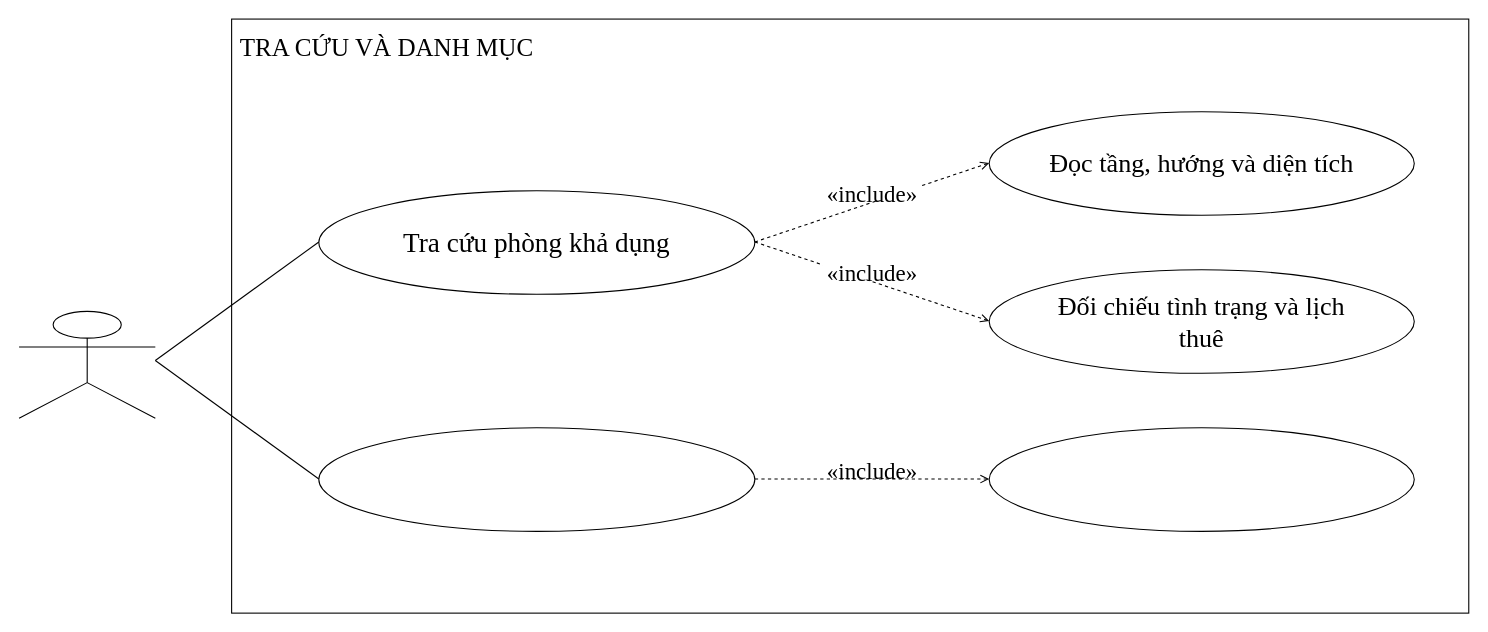
Image size: 1488x632. Some labels were removed from this diagram. The shapes that lost their labels are listed below. From the top down, each one's centre as x and y in pixels, then its label:
point (86, 364): Quản lý tòa nhà
point (536, 479): Duy trì danh mục
point (1201, 479): Kiểm tra mã, dữ liệu và liên kết
